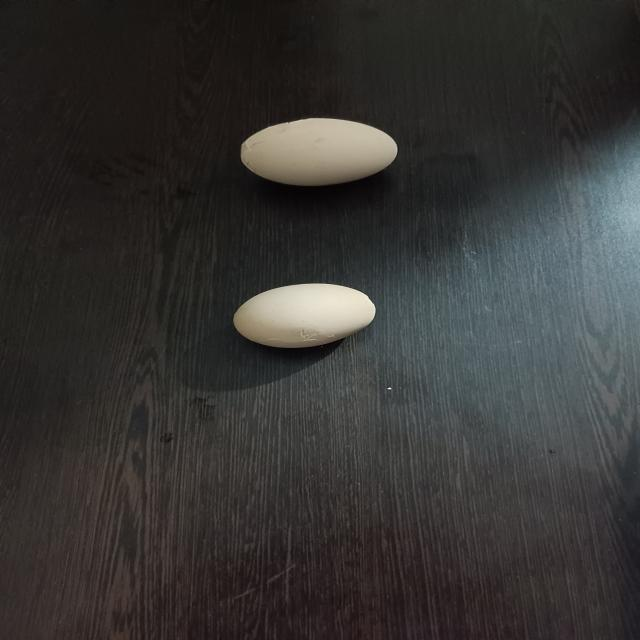biodegradable: (234, 118, 401, 186), (229, 282, 378, 348)
